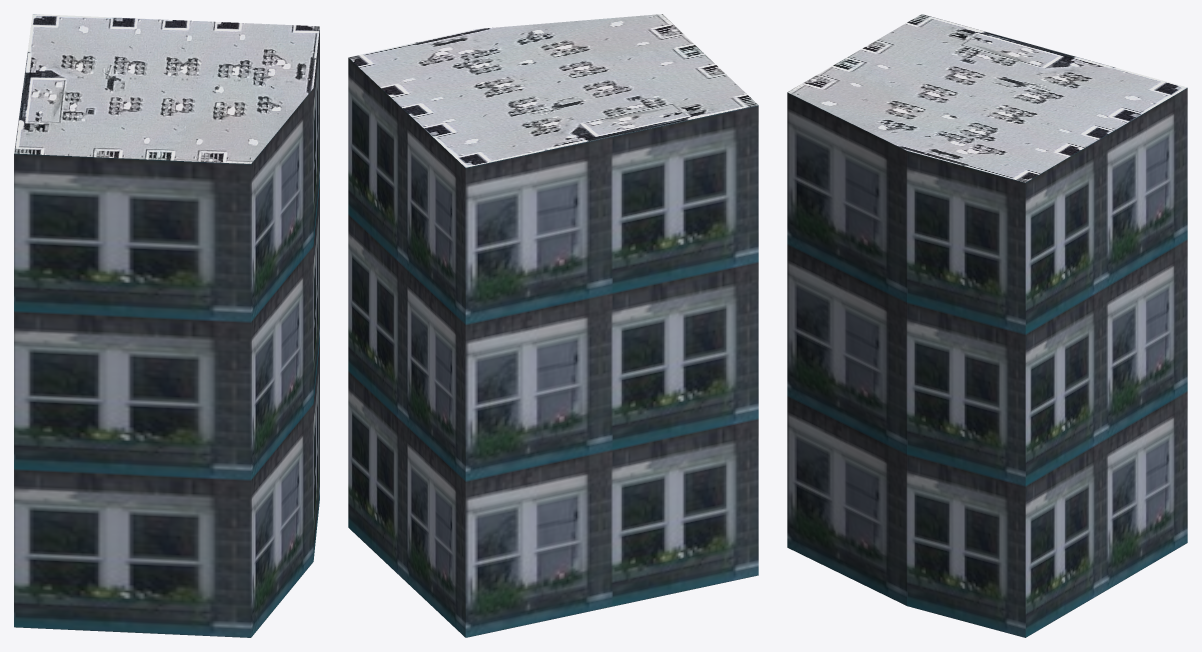
Rendered from ResTex__1846.fbx.
3 renders of one model, left to right at view 1: azimuth 30°, elevation 25°; view 2: azimuth 150°, elevation 25°; view 3: azimuth 270°, elevation 25°, orthographic. The views are drawn at different scales.
Visible parts, largest first — view 1: CityEngineMaterial_11_m, CityEngineMaterial_4_m; view 2: CityEngineMaterial_11_m, CityEngineMaterial_4_m; view 3: CityEngineMaterial_11_m, CityEngineMaterial_4_m.
Boxes of the visible parts, x1=… form: CityEngineMaterial_11_m: x1=14, y1=27, x2=319, y2=637; CityEngineMaterial_4_m: x1=14, y1=14, x2=319, y2=163; CityEngineMaterial_11_m: x1=348, y1=58, x2=758, y2=637; CityEngineMaterial_4_m: x1=348, y1=14, x2=758, y2=167; CityEngineMaterial_11_m: x1=787, y1=88, x2=1187, y2=637; CityEngineMaterial_4_m: x1=787, y1=14, x2=1187, y2=182.
Size of the model in its own units: 7.15 by 9 by 7.18.
Materials: 2 (2 with a texture image).
